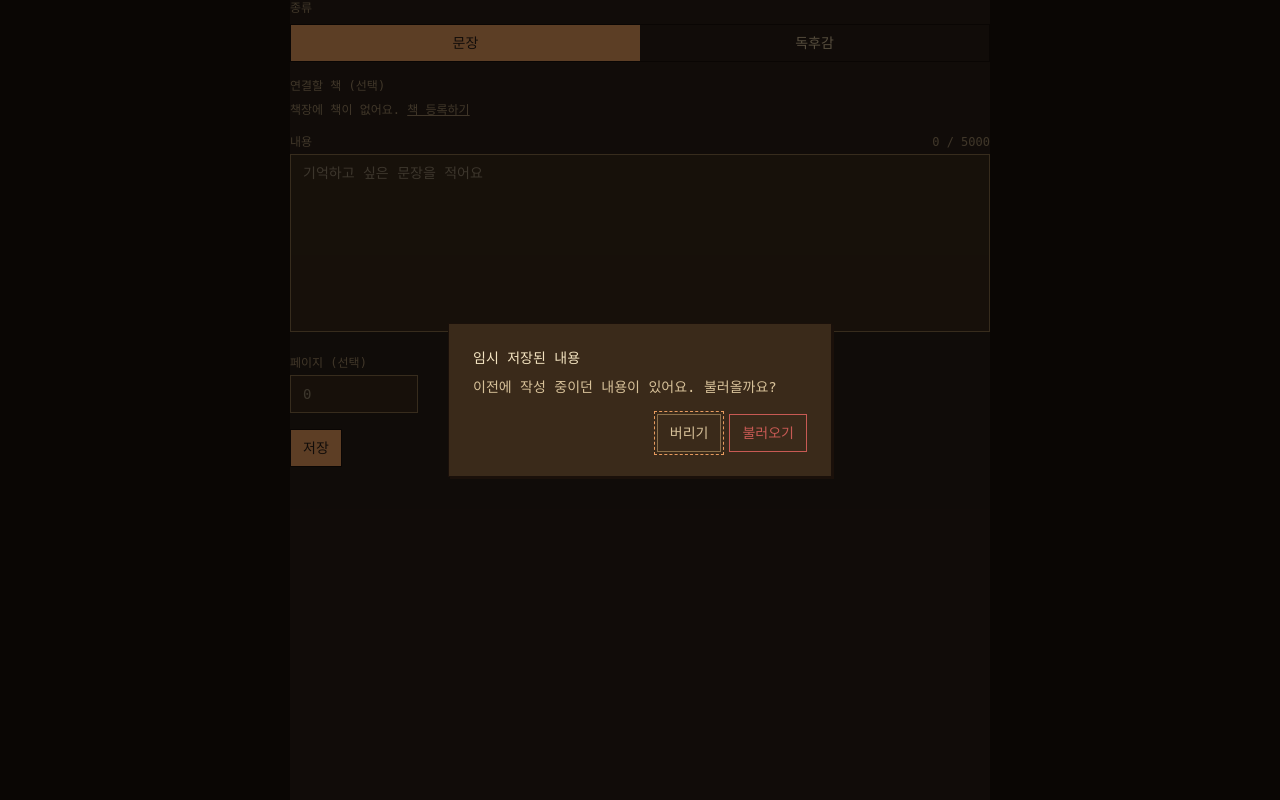
Test: DiaryEntryForm › draft 복원 › 불러오기 선택 시 draft 내용을 폼에 적용한다
Check: the dialog is shown, box [448,323,832,477]
Click the button "불러오기" at (768, 433), box [730,414,807,452]
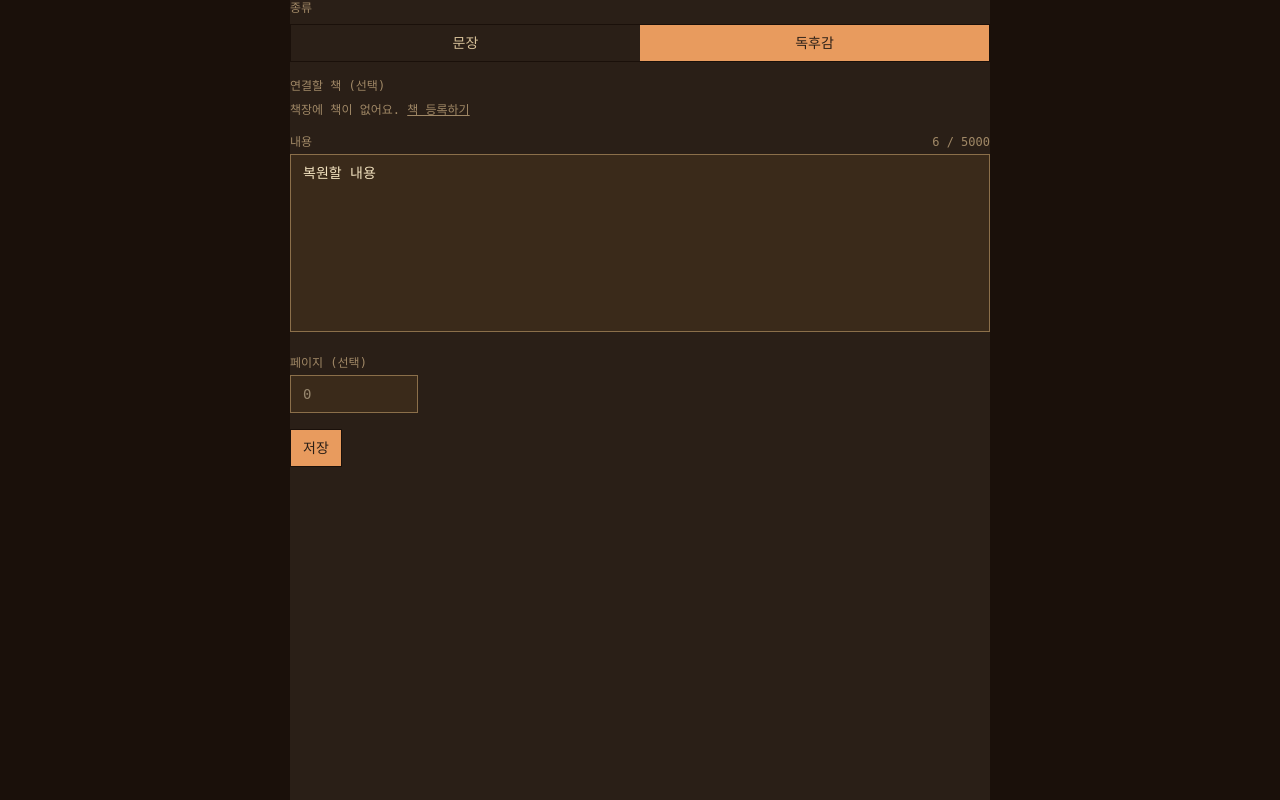
Check: the text box labelled "내용" holds "복원할 내용", box [290,154,990,332]
